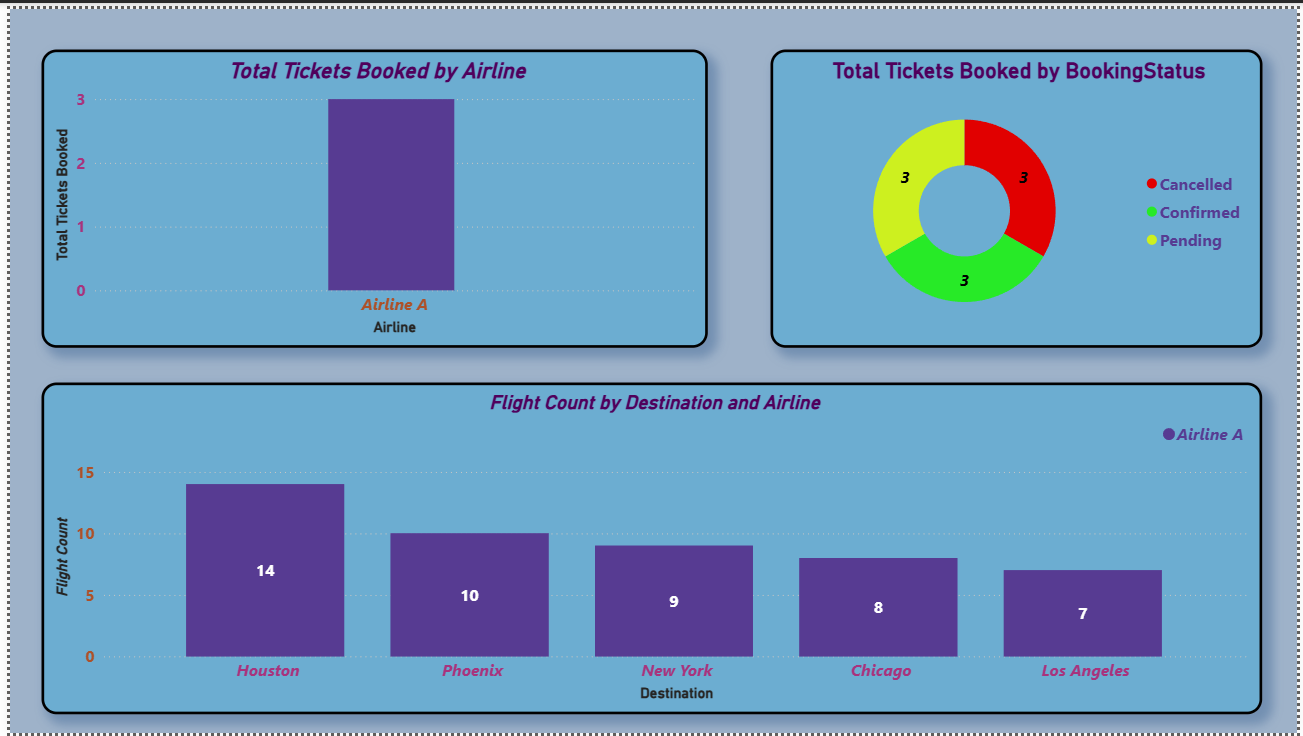

The page's visual inventory and layout, read from the dashboard file:
{"tool":"powerbi","page":{"name":"Airline A","canvas":[1280,720],"ordinal":2},"visuals":[{"type":"columnChart","fields":{"Category":["flight_information.Airline"],"Y":["Measure.Total Tickets Booked"]},"box":[31.3,40.3,662.3,296.9],"z":0},{"type":"donutChart","fields":{"Category":["ticket_information.BookingStatus"],"Y":["Measure.Total Tickets Booked"]},"box":[756.3,40.3,489.3,296.9],"z":1000},{"type":"columnChart","fields":{"Category":["flight_information.Destination"],"Y":["Measure.Flight Count"],"Series":["flight_information.Airline"]},"box":[31.3,371.4,1214.3,329.7],"z":2000}]}

Visuals, with their boxes in screenshot pixels (x1, y1, x2, y2), scaled from the page's 1280x720 canvas onto the 1303x736 screenshot:
columnChart - flight_information.Airline x Measure.Total Tickets Booked: (x1=32, y1=41, x2=706, y2=345)
donutChart - ticket_information.BookingStatus x Measure.Total Tickets Booked: (x1=770, y1=41, x2=1268, y2=345)
columnChart - flight_information.Destination x Measure.Flight Count: (x1=32, y1=380, x2=1268, y2=717)
